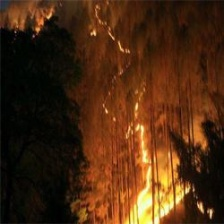fire: (89, 13, 193, 224)
